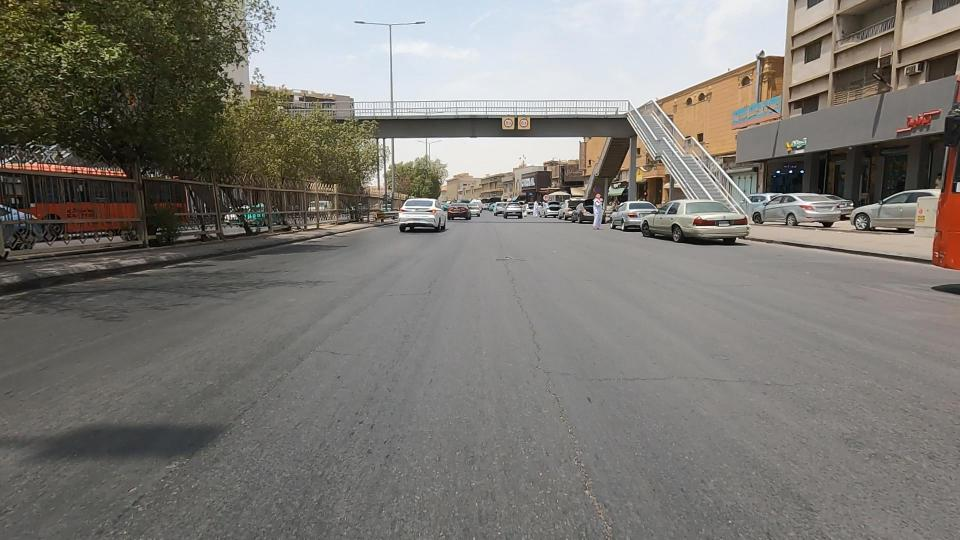BAD_BILLBOARD: (537, 159, 600, 197)
